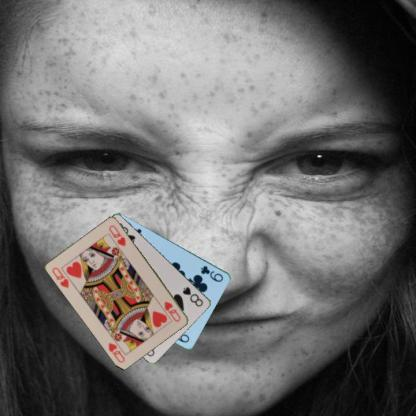8s: (180, 284, 205, 308)
9c: (198, 263, 225, 283)
Qh: (50, 264, 70, 289), (162, 299, 182, 323)
